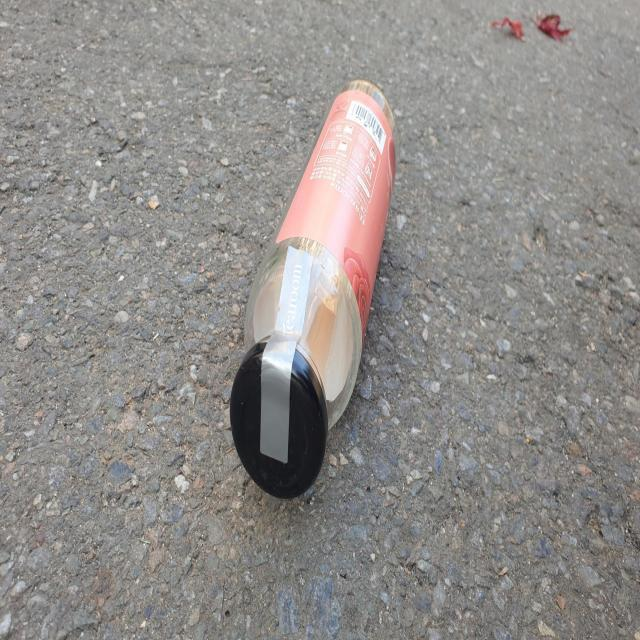glass: (230, 78, 397, 497)
